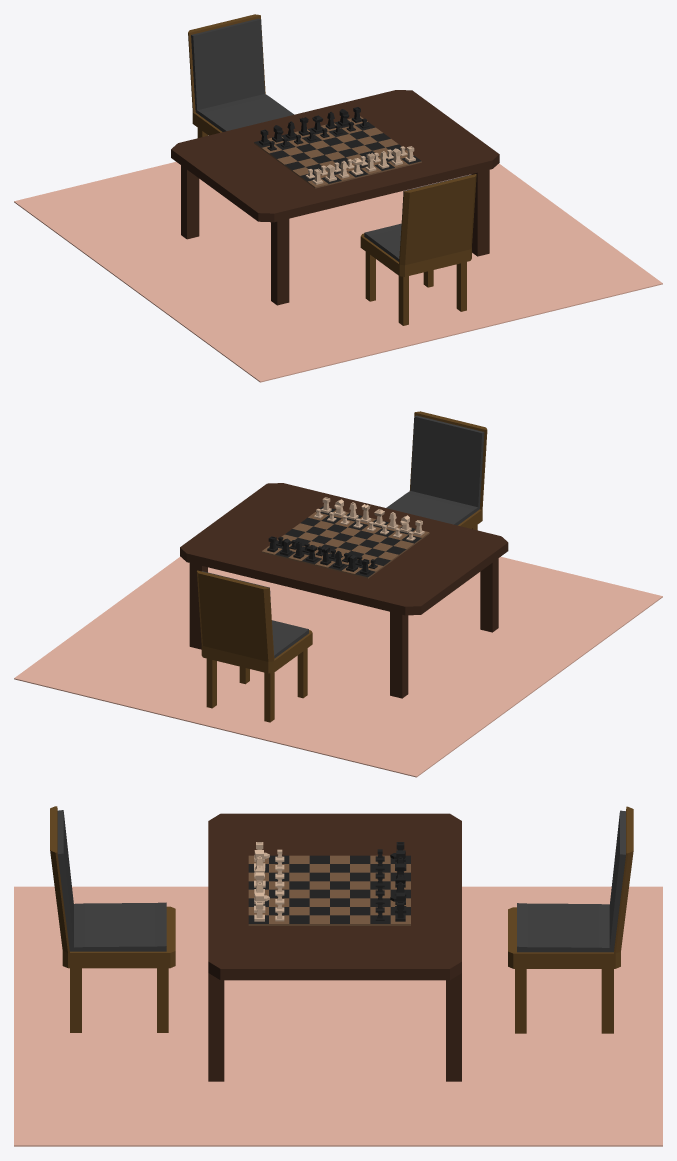
3 renders of one model, top to bottom at view 1: azimuth 30°, elevation 25°; view 2: azimuth 150°, elevation 25°; view 3: azimuth 270°, elevation 25°, orthographic. The views are drawn at different scales.
Visible parts, largest first — view 1: Asset3DLoader.sceneRoot; view 2: Asset3DLoader.sceneRoot; view 3: Asset3DLoader.sceneRoot.
Part boxes in pixels (x1,y1,x2,y2): Asset3DLoader.sceneRoot: (14, 14, 662, 382); Asset3DLoader.sceneRoot: (14, 411, 662, 777); Asset3DLoader.sceneRoot: (14, 806, 662, 1146).
Bounding box in the file's own units: 5.85 × 1.95 × 6.2.
Materials: 1 (1 with a texture image).
